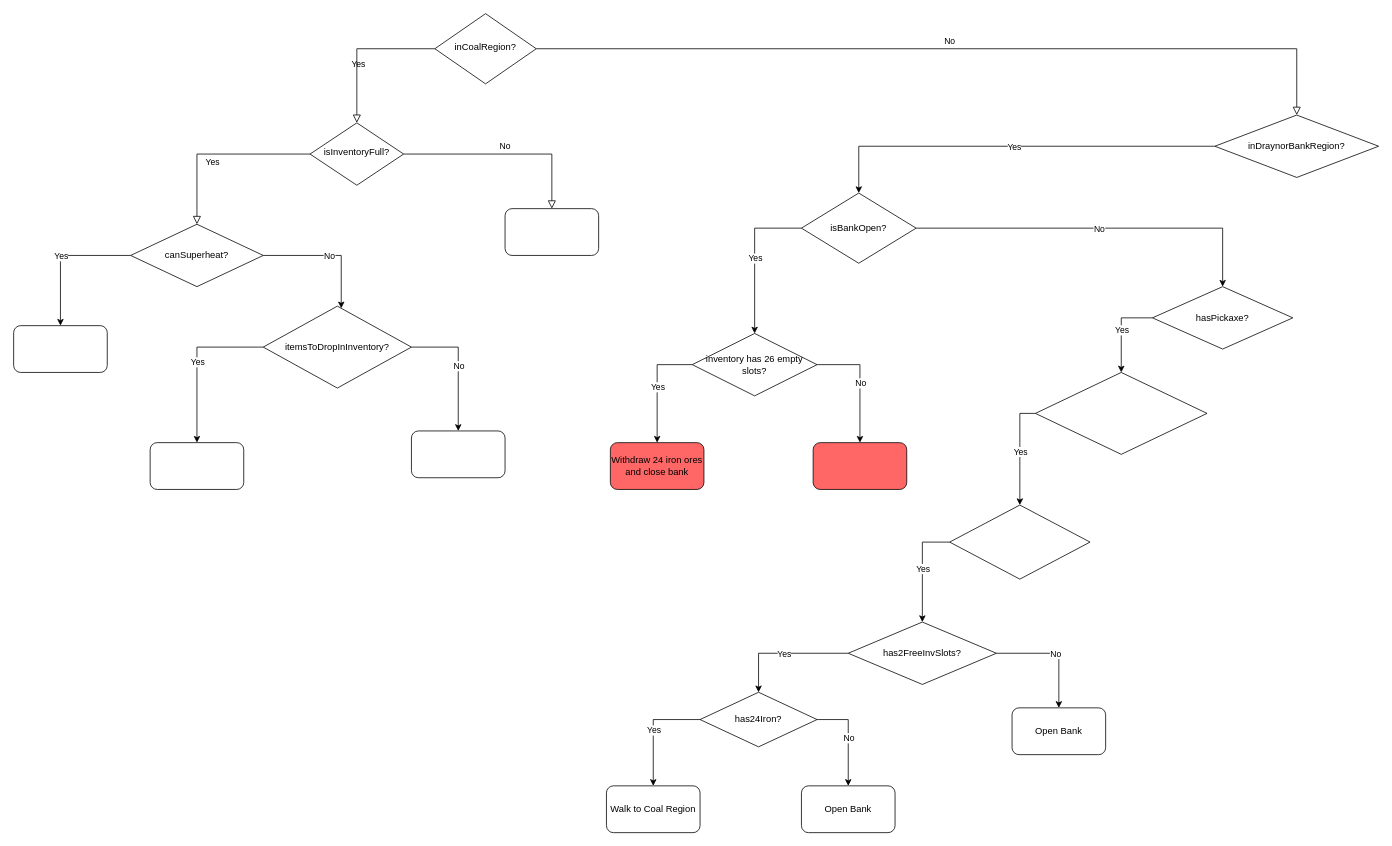
Some shapes in this 1392 by 846 pixel diagram are drawn without their labels. The centre of each missing label's shape, as x and y in pixels:
Deposit all except nature runes and pickaxe: the point at 859,465
Drop Items: the point at 196,465
Find Coal Rock and Mine: the point at 551,231
hasFireStaffEquipped?: the point at 1019,541
hasNatureRunes?: the point at 1121,413
Make Steel Bar: the point at 60,348
Walk to Bank: the point at 458,454
